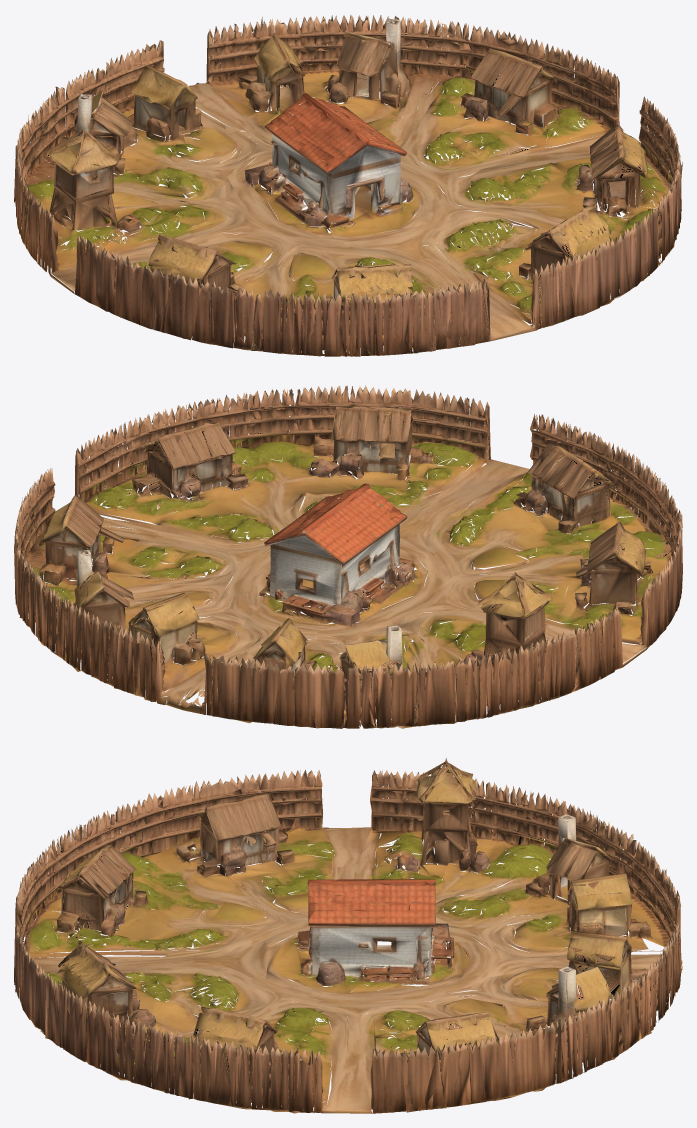
Rendered from Village_Romans_S.glb.
3 renders of one model, top to bottom at view 1: azimuth 30°, elevation 25°; view 2: azimuth 150°, elevation 25°; view 3: azimuth 270°, elevation 25°, orthographic.
Visible parts, largest first — view 1: Mesh1.0; view 2: Mesh1.0; view 3: Mesh1.0.
Boxes of the visible parts, <box> form: Mesh1.0: <box>14,15,682,356</box>; Mesh1.0: <box>14,385,682,728</box>; Mesh1.0: <box>14,758,682,1113</box>.
Size of the model in its own units: 1.9 by 0.3427 by 1.9.
1 material, 1 textured.
